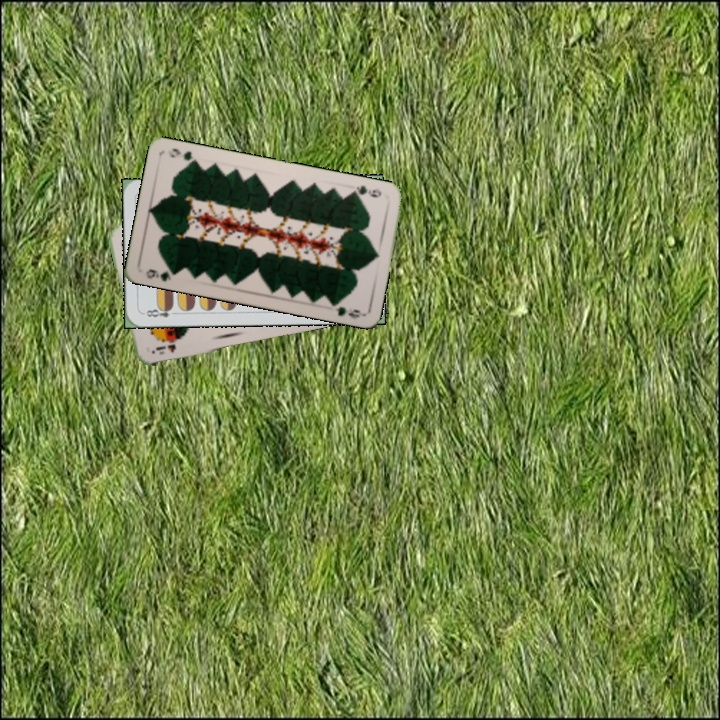E8: (139, 303, 180, 320)
G9: (142, 265, 181, 284), (347, 181, 384, 200)
SO: (152, 340, 178, 358)
